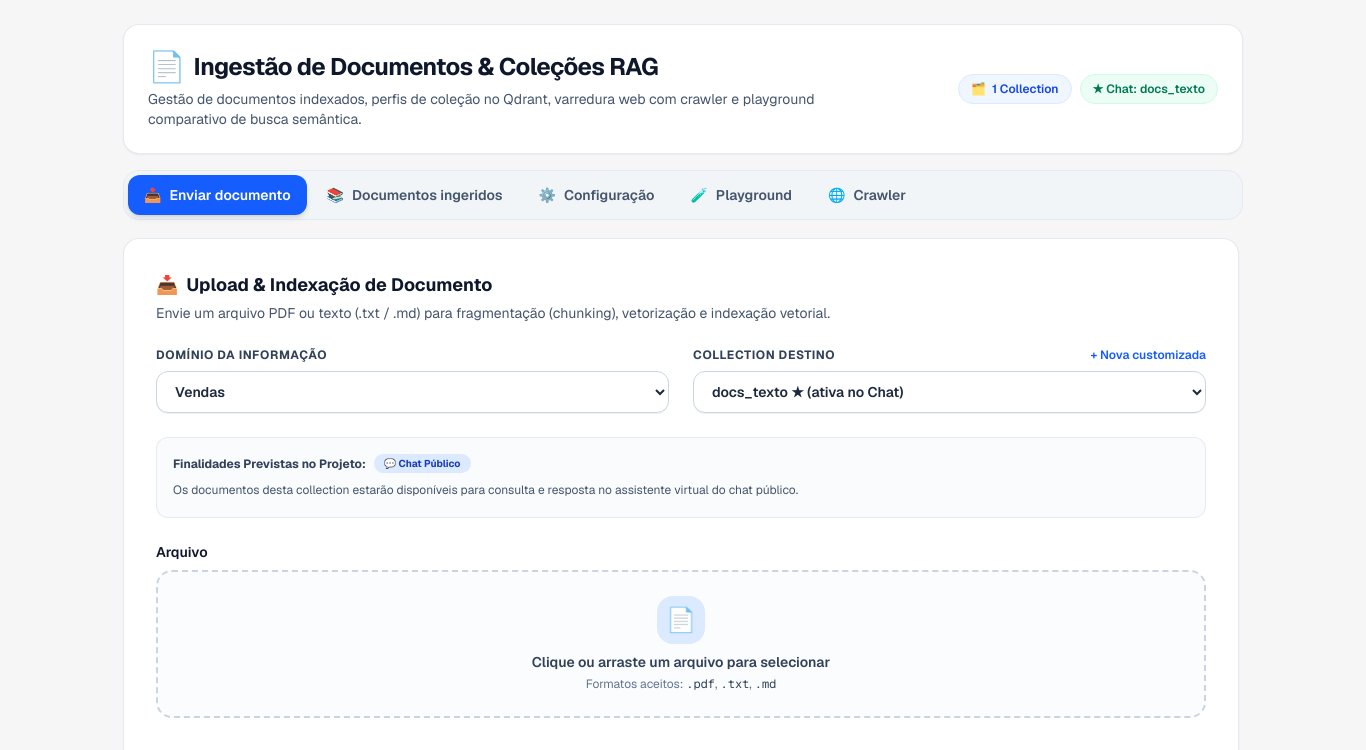
Scenario: IngestaoDocumentosPage › aba 'Documentos ingeridos' lista os documentos ao ser aberta
Click the tab "📚 Documentos ingeridos".
click(415, 195)  # box [311,175,519,215]
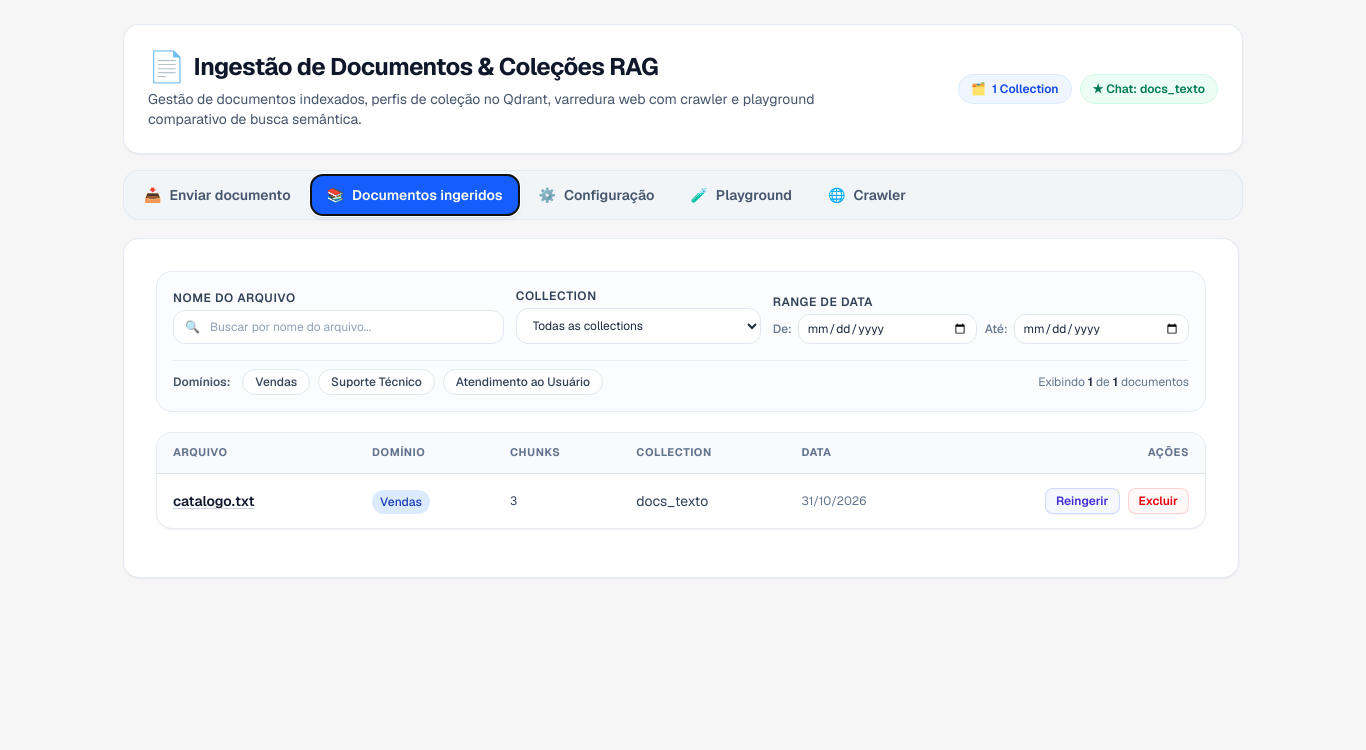
Check: the text "catalogo.txt" is shown, box [173,491,254,511]
